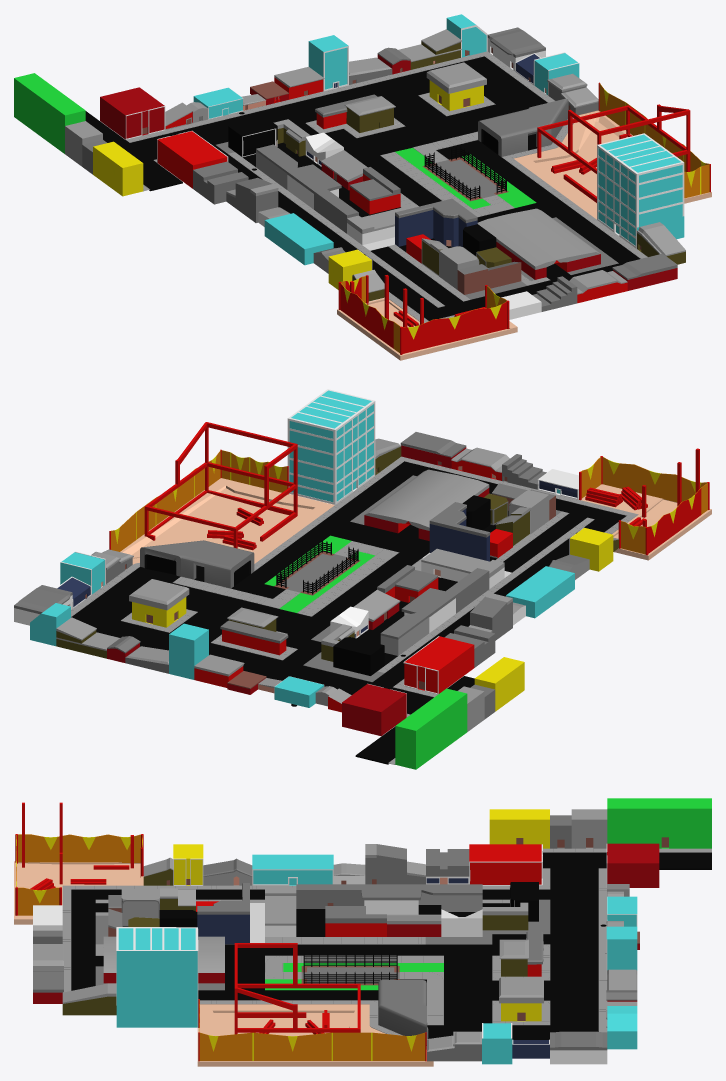
Rendered from Jamsepticeye_Map.fbx.
3 renders of one model, top to bottom at view 1: azimuth 30°, elevation 25°; view 2: azimuth 150°, elevation 25°; view 3: azimuth 270°, elevation 25°, orthographic. The views are drawn at different scales.
Visible parts, largest first — view 1: Road_Object, SideWalk, Work_Building, Cylinder, Carwash, Construction_Dirt, Cube.049, Tunnel, Construction Area, Cube.018, Cube.048, Cube.038 (+47 smaller); view 2: Road_Object, SideWalk, Work_Building, Construction_Dirt, Cylinder, Construction Area, Carwash, Cube.049, Construction Area 1 Tarp, Tunnel, Cube.038, Cube.048 (+44 smaller); view 3: Road_Object, SideWalk, Work_Building, Construction Area 1 Tarp, Construction_Dirt, Cube.049, Cylinder, Construction Area, Cube.038, Cube.025, Tunnel, Cube.034 (+48 smaller).
Part boxes in pixels (x1,y1,x2,y2): Road_Object: [85, 56, 640, 320]; SideWalk: [126, 51, 647, 322]; Work_Building: [597, 133, 684, 248]; Cylinder: [338, 275, 509, 354]; Carwash: [477, 208, 600, 279]; Construction_Dirt: [514, 110, 711, 219]; Cube.049: [14, 73, 85, 153]; Tunnel: [478, 98, 568, 156]; Construction Area: [537, 104, 690, 202]; Cube.018: [395, 198, 477, 246]; Cube.048: [100, 87, 165, 139]; Cube.038: [157, 130, 228, 188]; Road_Object: [71, 461, 625, 764]; SideWalk: [71, 456, 638, 764]; Work_Building: [287, 389, 375, 504]; Construction_Dirt: [120, 478, 334, 564]; Cylinder: [579, 456, 709, 555]; Construction Area: [144, 422, 297, 548]; Carwash: [364, 469, 489, 540]; Cube.049: [395, 688, 467, 769]; Construction Area 1 Tarp: [109, 449, 288, 551]; Tunnel: [140, 540, 254, 588]; Cube.038: [403, 636, 474, 694]; Cube.048: [342, 683, 406, 735]; Road_Object: [71, 852, 711, 1045]; SideWalk: [62, 848, 711, 1049]; Work_Building: [116, 927, 198, 1027]; Construction Area 1 Tarp: [198, 999, 426, 1061]; Construction_Dirt: [197, 1004, 433, 1066]; Cube.049: [607, 798, 711, 848]; Cylinder: [15, 834, 143, 915]; Construction Area: [234, 943, 360, 1034]; Cube.038: [469, 844, 542, 885]; Cube.025: [14, 861, 143, 924]; Tunnel: [378, 980, 428, 1044]; Cube.034: [252, 854, 333, 885].
Size of the model in its own units: 197 by 257 by 38.3.
